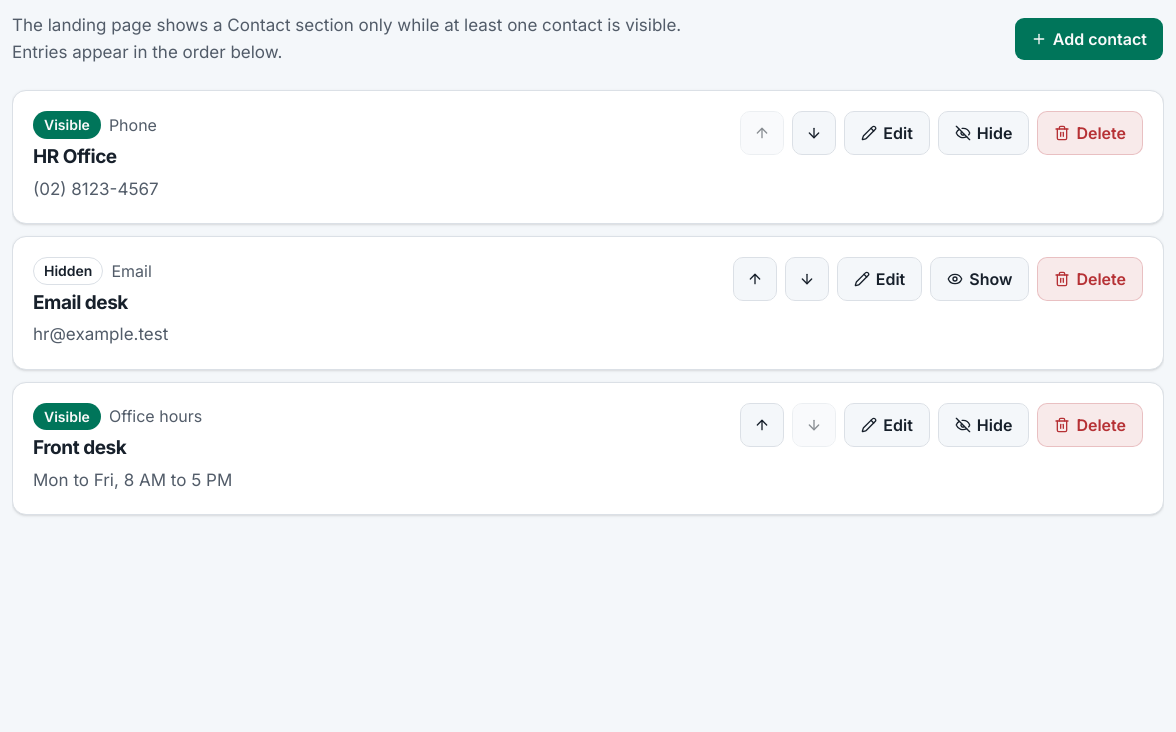
Test: HrContactsPanel › hides a visible contact without changing anything else
Expected: the text "Hidden" is shown, [33, 257, 103, 285]
Step 1. Click the button with aria-label "Hide HR Office" → (984, 133), box [938, 111, 1029, 155]
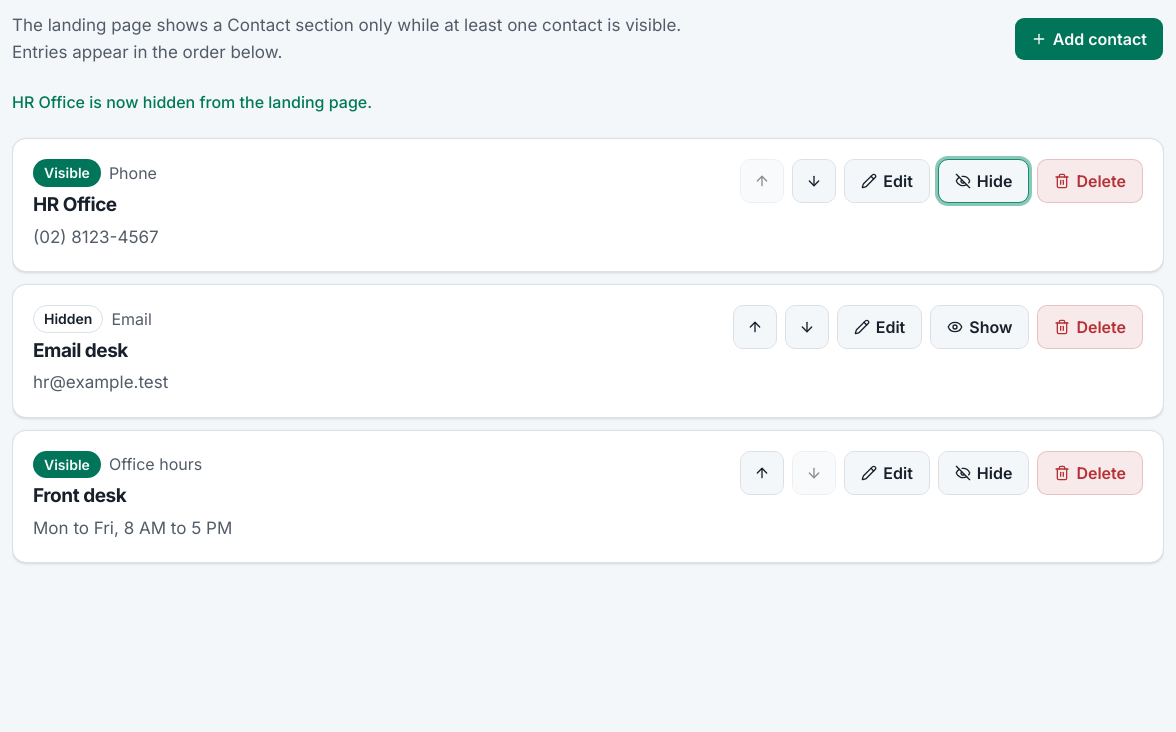
Now the text "HR Office is now hidden from the landing page." is shown, box [12, 92, 372, 112]
